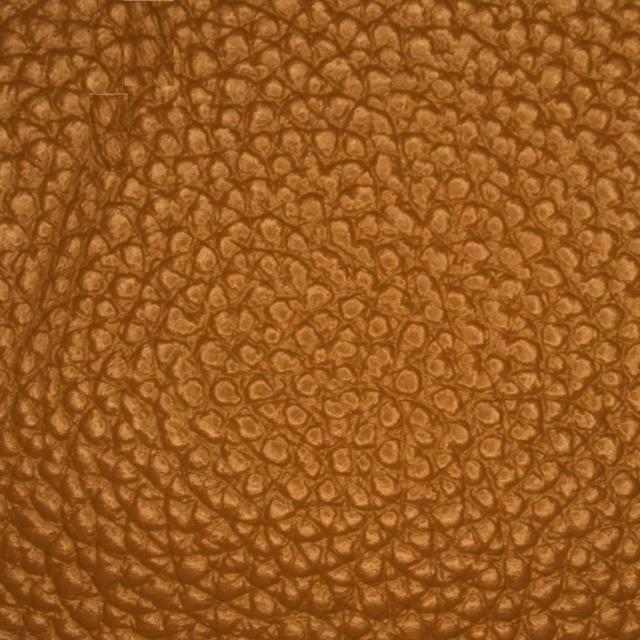Healed Injury: (61, 50, 188, 198)
